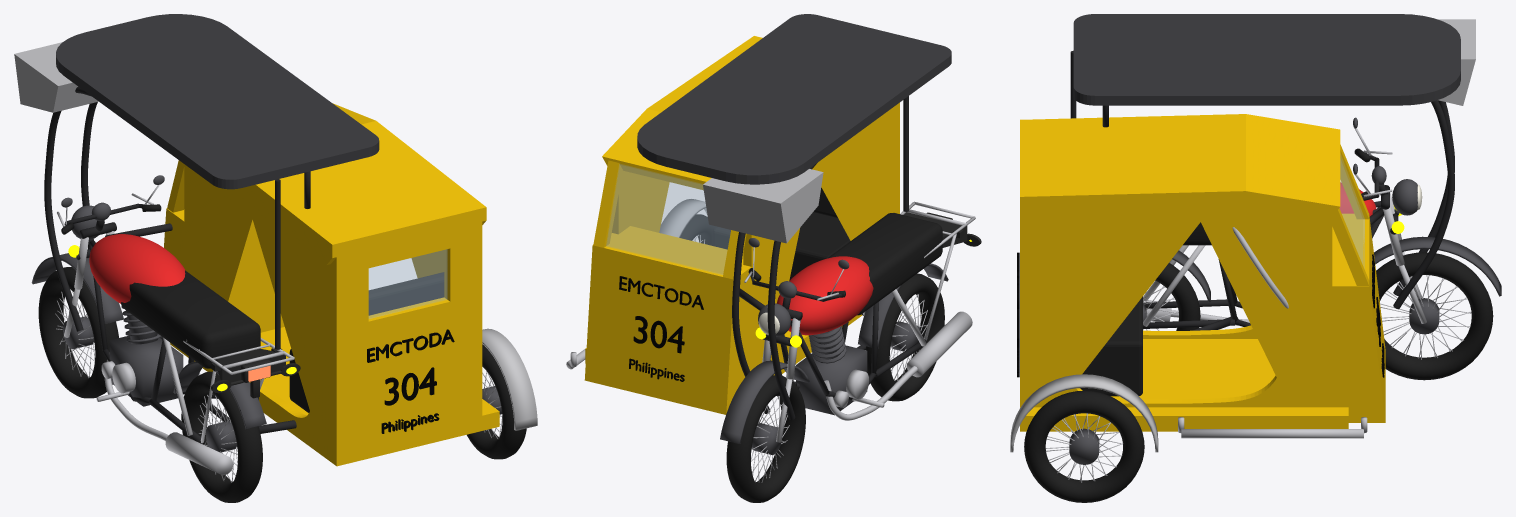
File: Philippine_Tricycle.fbx
The picture shows the model from 3 angles, left to right: view 1: azimuth 30°, elevation 25°; view 2: azimuth 150°, elevation 25°; view 3: azimuth 270°, elevation 25°; orthographic projection. The views are drawn at different scales.
Parts seen in each view (by area): view 1: Side_Body, Roof_Canopy, Side_InnerWall, Moto_Seat, Moto_FrontWheel, Moto_RearWheel, Moto_Metal, Moto_Tank, Side_Glass, Moto_Engine, Roof_Visor, Moto_Fenders (+14 smaller); view 2: Roof_Canopy, Side_Body, Side_Glass, Side_InnerWall, Moto_FrontWheel, Roof_Visor, Moto_Seat, Moto_Metal, Moto_Tank, Moto_RearWheel, Moto_Engine, Moto_Fenders (+13 smaller); view 3: Side_Body, Roof_Canopy, Side_OuterWall, Side_Wheel, Moto_FrontWheel, Side_Seat, Moto_Metal, Side_Fender, Moto_Frame, Side_Metal, Moto_Fenders, Roof_ArchRight (+7 smaller).
Boxes of the visible parts, box(x1,y1,x2,y2) form: Side_Body: box(164, 103, 499, 466); Roof_Canopy: box(56, 14, 379, 189); Side_InnerWall: box(184, 164, 330, 446); Moto_Seat: box(121, 270, 260, 368); Moto_FrontWheel: box(38, 267, 118, 398); Moto_RearWheel: box(181, 371, 262, 502); Moto_Metal: box(57, 185, 294, 475); Moto_Tank: box(89, 234, 185, 303); Side_Glass: box(369, 249, 447, 318); Moto_Engine: box(61, 175, 183, 406); Roof_Visor: box(14, 42, 98, 112); Moto_Fenders: box(31, 253, 266, 428); Roof_Canopy: box(637, 14, 951, 184); Side_Body: box(584, 36, 899, 414); Side_Glass: box(606, 164, 730, 274); Side_InnerWall: box(743, 107, 893, 360); Moto_FrontWheel: box(726, 375, 805, 502); Roof_Visor: box(703, 169, 823, 243); Moto_Seat: box(827, 213, 942, 315); Moto_Metal: box(744, 201, 975, 442); Moto_Tank: box(776, 256, 873, 335); Moto_RearWheel: box(865, 273, 944, 401); Moto_Engine: box(748, 238, 867, 415); Moto_Fenders: box(720, 263, 948, 443); Side_Body: box(1020, 114, 1385, 431); Roof_Canopy: box(1073, 14, 1460, 105); Side_OuterWall: box(1032, 217, 1332, 407); Side_Wheel: box(1024, 390, 1144, 502); Moto_FrontWheel: box(1376, 252, 1493, 380); Side_Seat: box(1080, 296, 1142, 396); Moto_Metal: box(1143, 128, 1426, 326); Side_Fender: box(1010, 374, 1158, 452); Moto_Frame: box(1143, 152, 1398, 328); Side_Metal: box(1178, 417, 1367, 438); Moto_Fenders: box(1172, 236, 1501, 302); Roof_ArchRight: box(1393, 100, 1454, 309).
Size of the model in its own units: 1.7 by 1.8 by 2.28.
